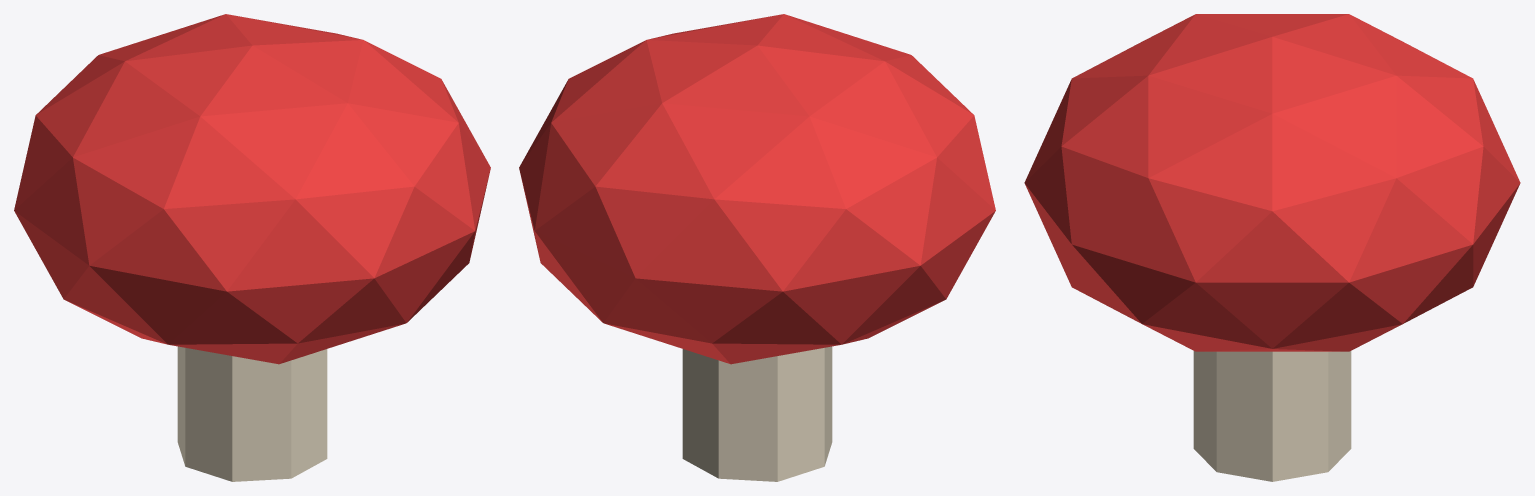
File: mushroom.fbx
3 views of the same model, side by side, from view 1: azimuth 30°, elevation 25°; view 2: azimuth 150°, elevation 25°; view 3: azimuth 270°, elevation 25° (orthographic).
Visible parts, largest first — view 1: Mushroom; view 2: Mushroom; view 3: Mushroom.
Part boxes in pixels (x1,y1,x2,y2): Mushroom: (14,14,490,481); Mushroom: (519,14,995,481); Mushroom: (1024,14,1520,481).
Size of the model in its own units: 2.09 by 2.01 by 2.2.
